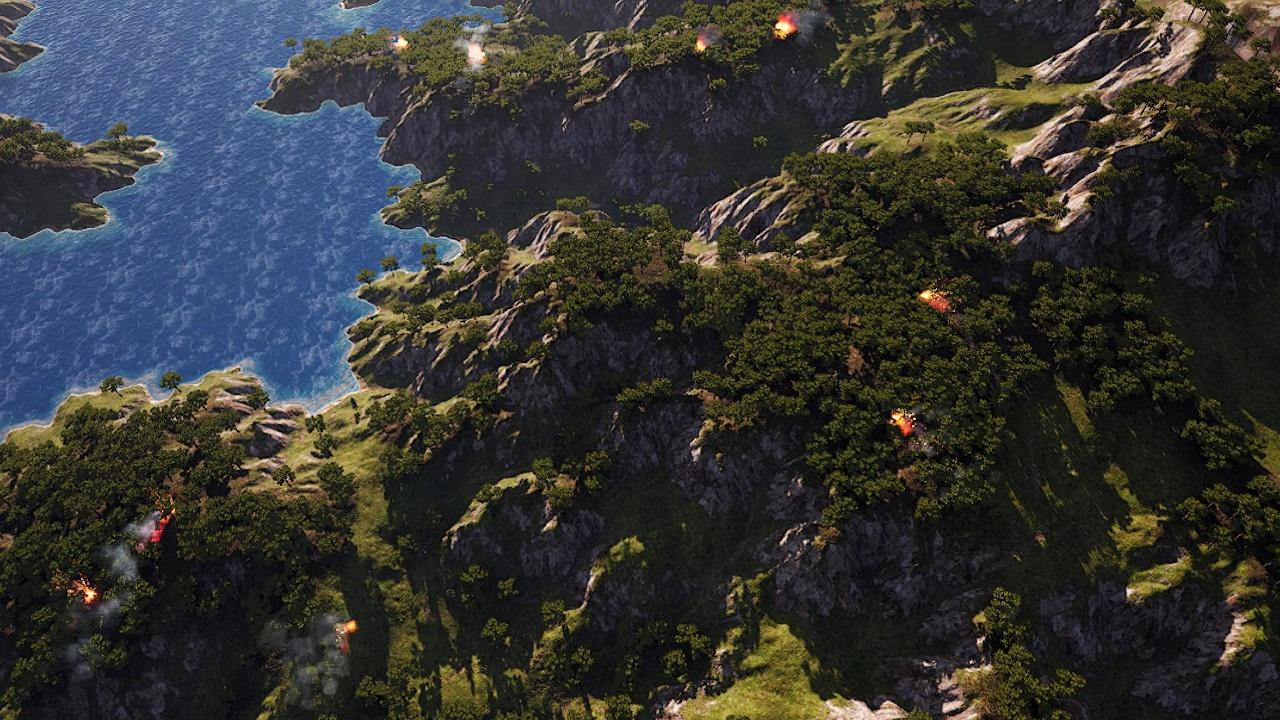fire: (135, 495, 177, 549), (67, 577, 99, 605), (918, 290, 952, 315), (889, 409, 917, 438), (335, 617, 353, 651), (773, 17, 795, 37), (694, 38, 708, 55), (392, 38, 409, 50)
smoke: (52, 518, 152, 690), (265, 601, 359, 717), (452, 23, 492, 92), (791, 8, 824, 48)
